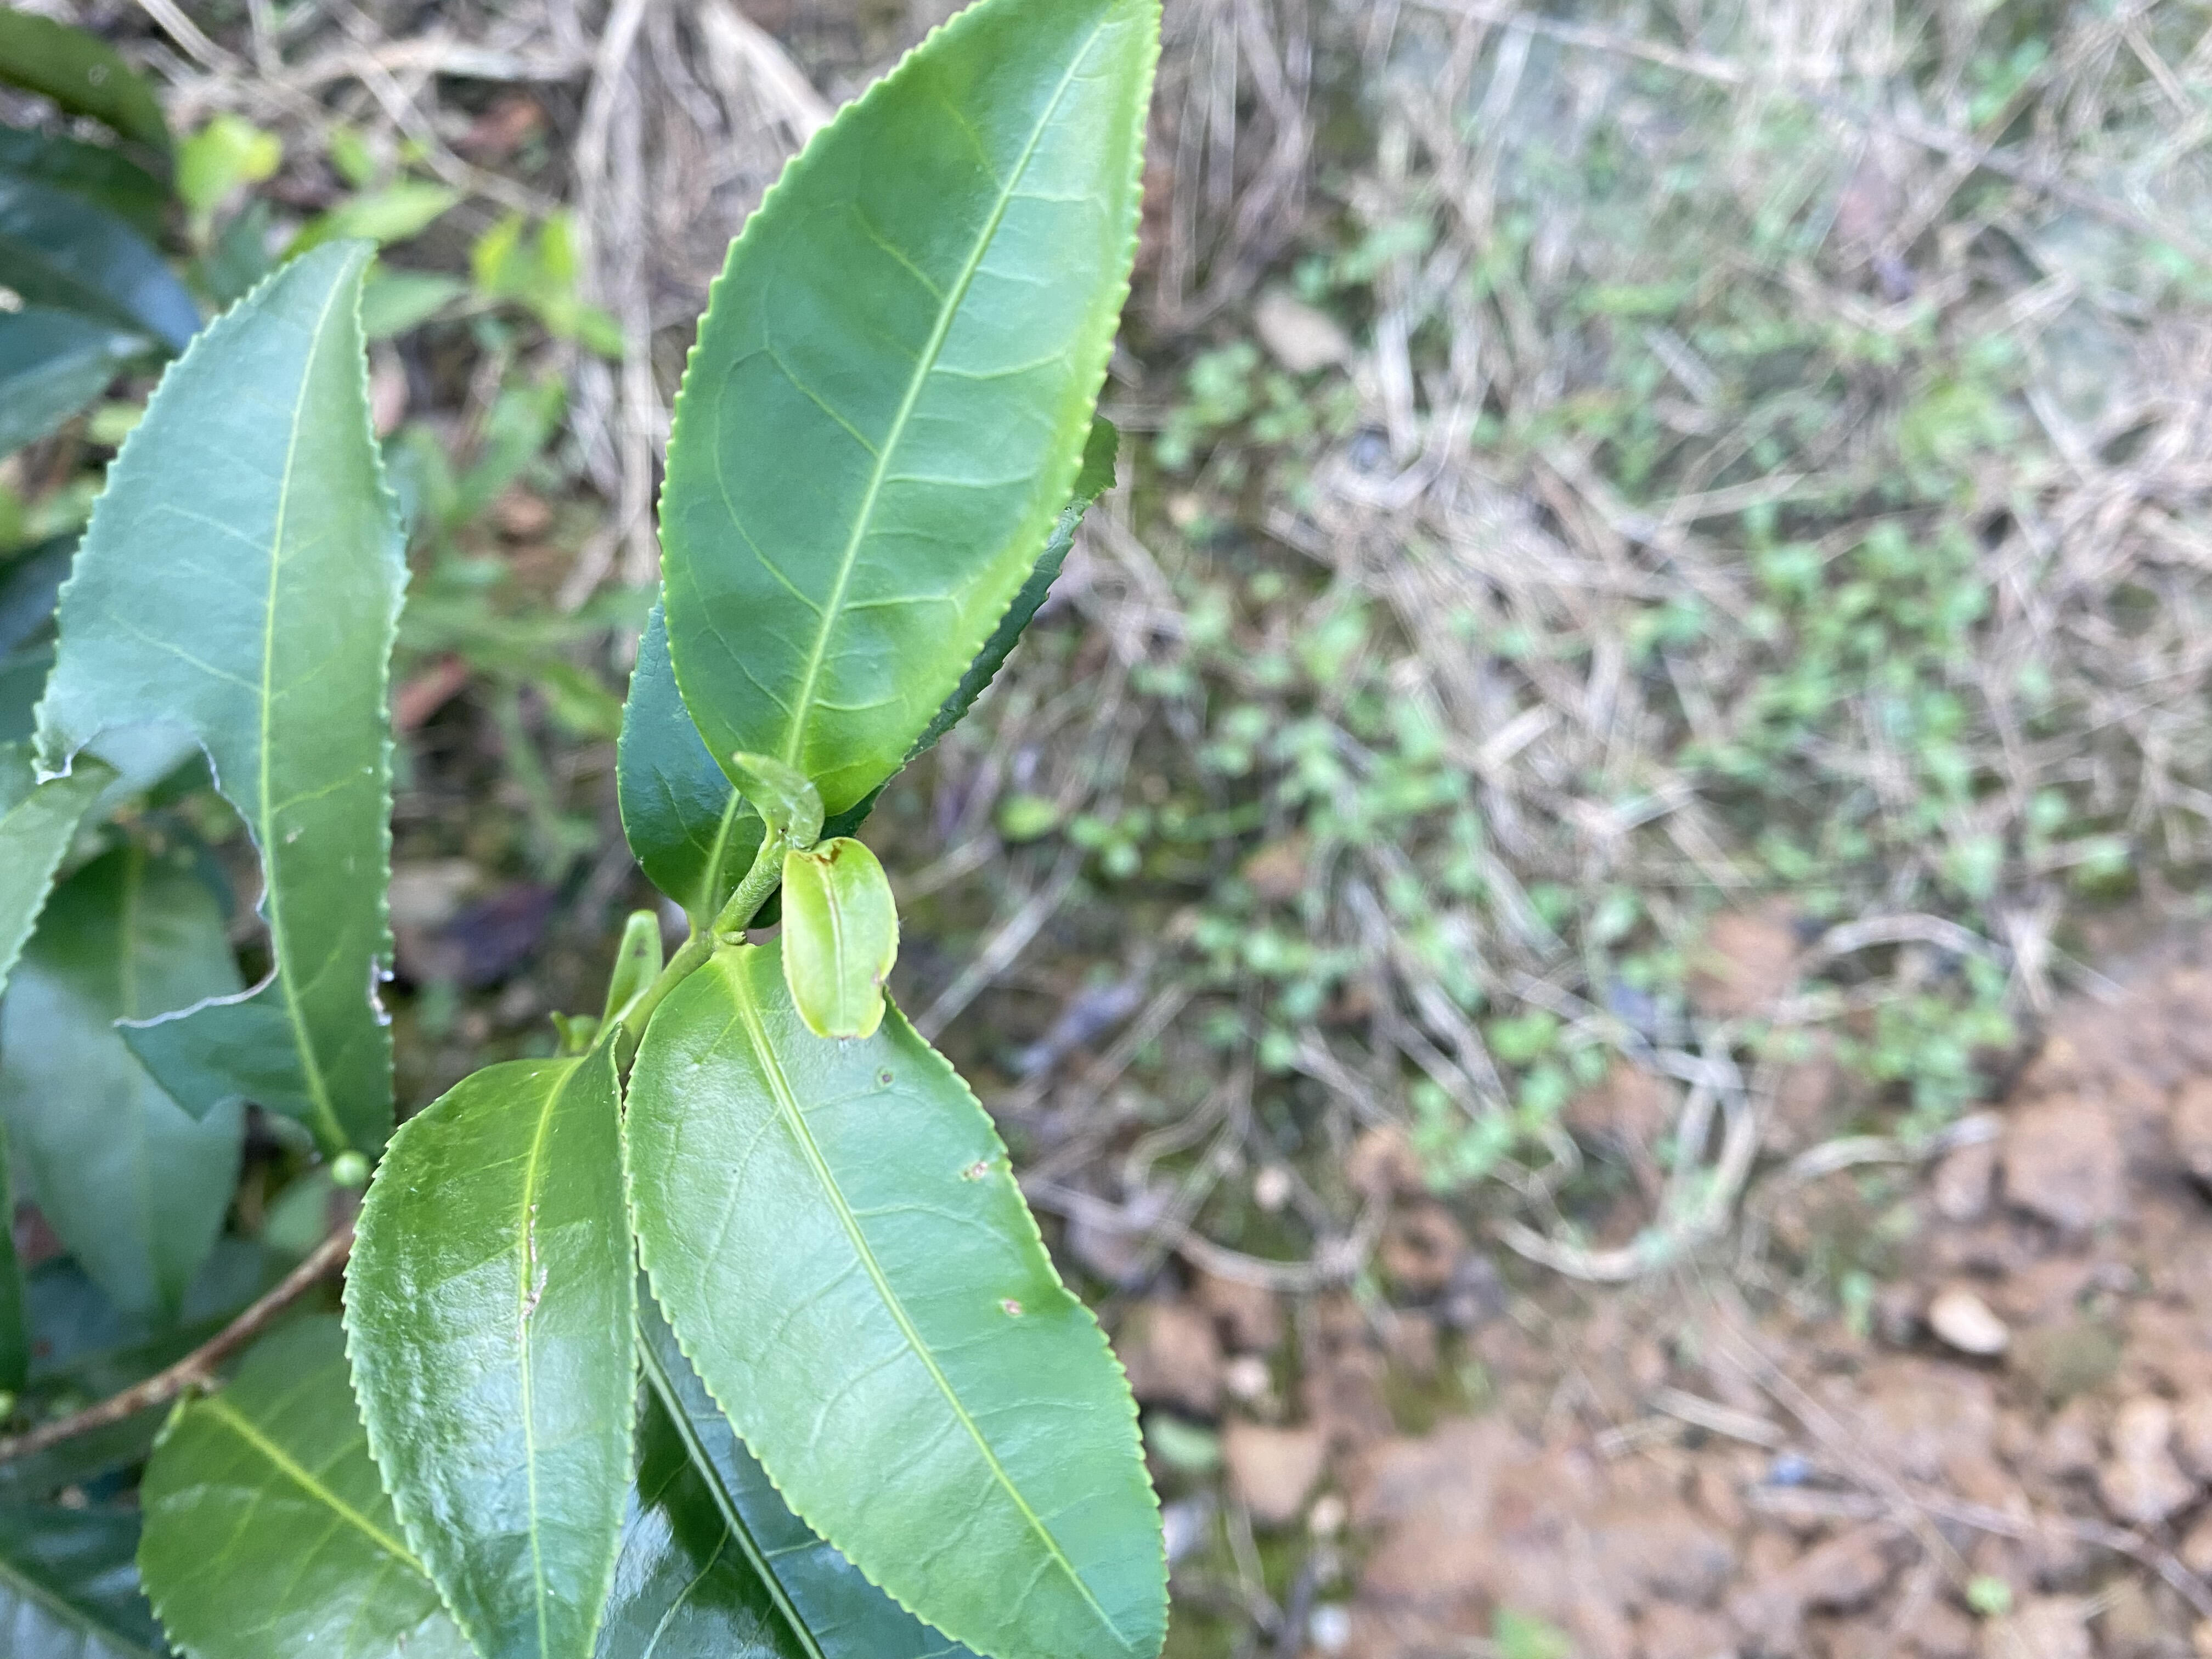chihuo_low: (31, 240, 413, 1162)
healthy: (657, 2, 1169, 819)
tanju_low: (624, 934, 1172, 1656), (341, 1028, 632, 1657), (784, 838, 900, 1046)
